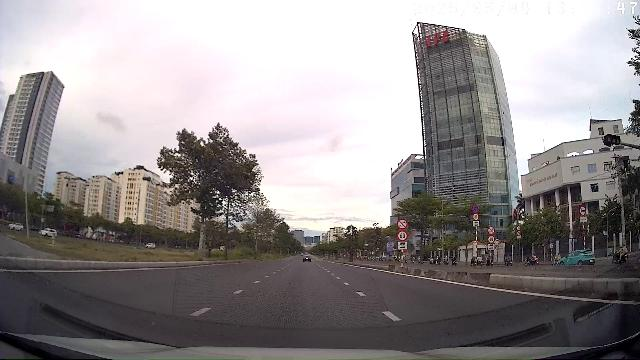127-toc-do-toi-da-60: (397, 230, 408, 241), (488, 235, 495, 243)
130-cam-dung-va-do-xe: (472, 204, 479, 213)
